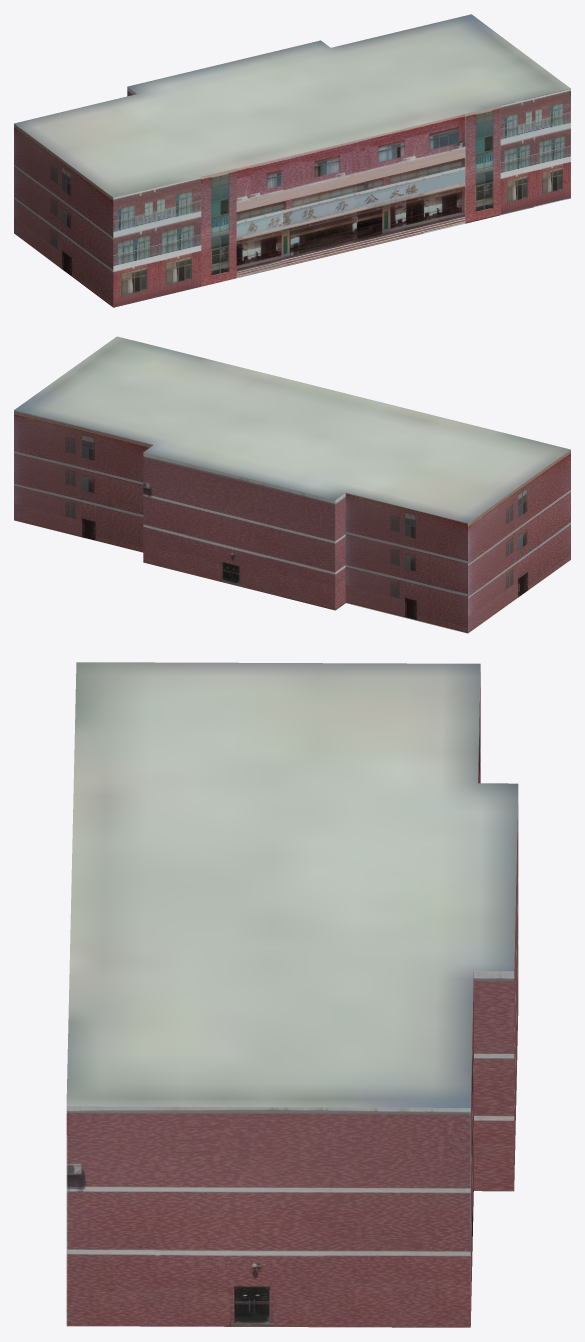
Rendered from nhjx.gltf.
3 renders of one model, top to bottom at view 1: azimuth 30°, elevation 25°; view 2: azimuth 150°, elevation 25°; view 3: azimuth 270°, elevation 25°, orthographic. The views are drawn at different scales.
Visible parts, largest first — view 1: Model#5; view 2: Model#5; view 3: Model#5.
Part boxes in pixels (box(x1,y1,x2,y2)): Model#5: box(14, 14, 570, 307); Model#5: box(14, 336, 570, 633); Model#5: box(66, 662, 518, 1327).
Bounding box in the file's own units: 0.0522 × 0.012 × 0.0224.
Materials: 2 (2 with a texture image).
